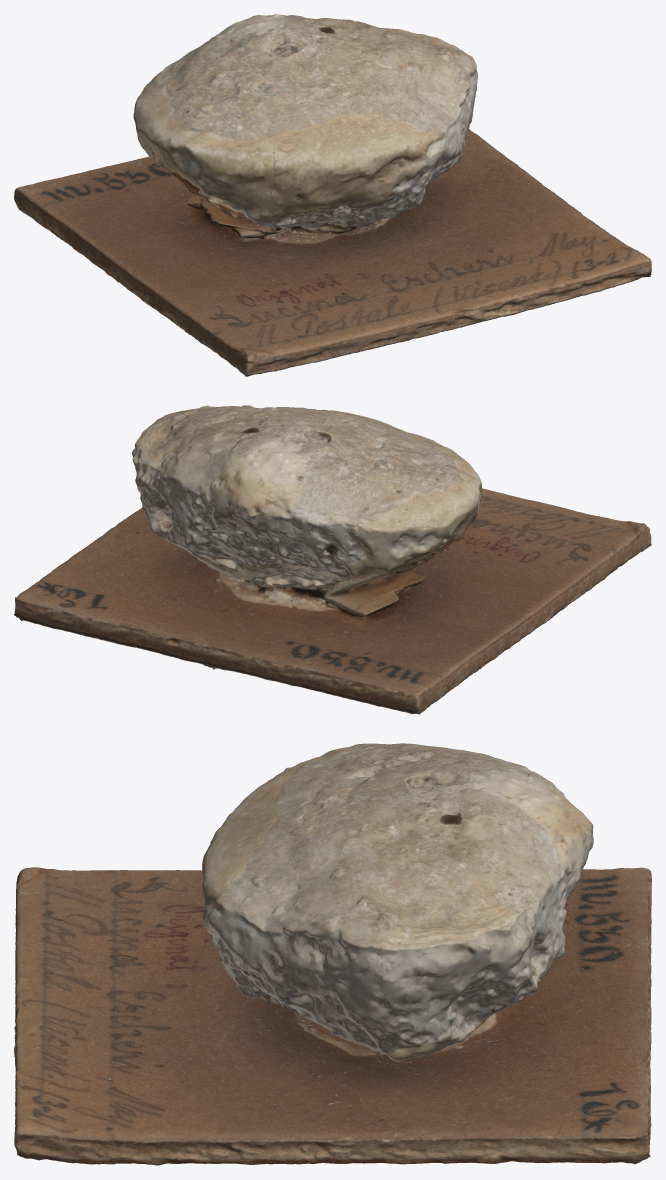
The model's file is EWS0016513.glb.
The picture shows the model from 3 angles, top to bottom: view 1: azimuth 30°, elevation 25°; view 2: azimuth 150°, elevation 25°; view 3: azimuth 270°, elevation 25°; orthographic projection. The views are drawn at different scales.
Visible parts, largest first — view 1: input; view 2: input; view 3: input.
Boxes of the visible parts, x1,y1,x2,y2 form: input: [14, 14, 651, 376]; input: [14, 405, 651, 714]; input: [14, 743, 651, 1165].
Size of the model in its own units: 0.0507 by 0.0217 by 0.0508.
1 material, 1 textured.
